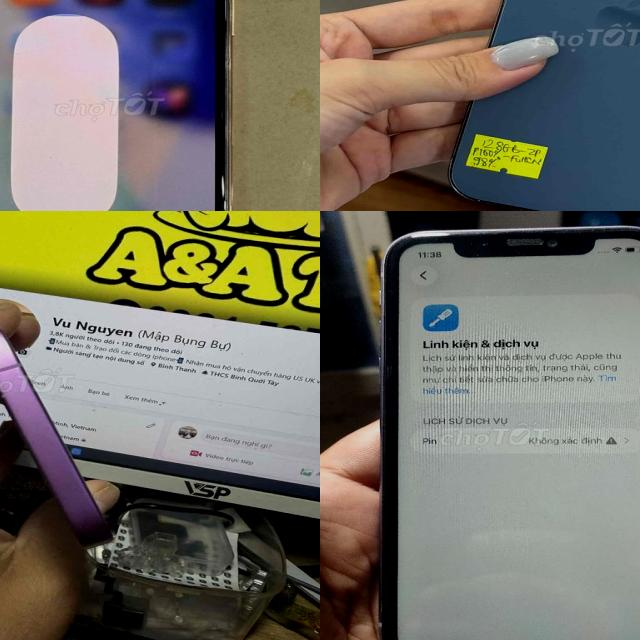gen_11: (374, 221, 640, 640), (0, 0, 254, 211)
gen_12_13: (437, 0, 640, 211)
gen_16: (0, 310, 143, 560)
